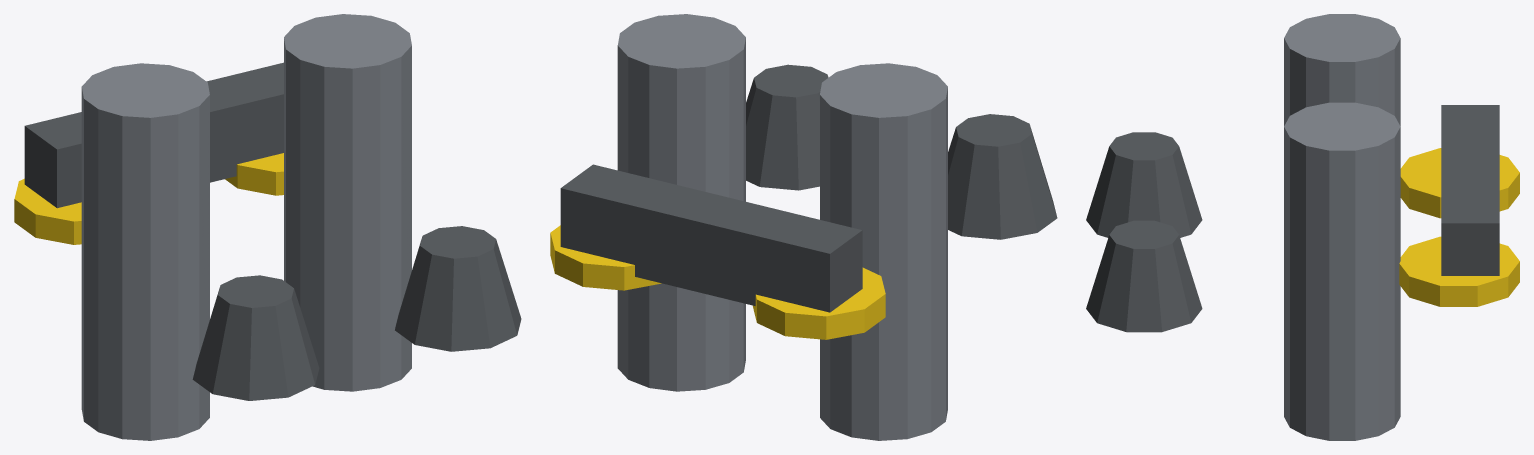
The model's file is backpack-jumpjets.glb.
3 renders of one model, left to right at view 1: azimuth 30°, elevation 25°; view 2: azimuth 150°, elevation 25°; view 3: azimuth 270°, elevation 25°, orthographic. The views are drawn at different scales.
Parts seen in each view (by area): view 1: pod_-1, pod_1, nozzle_1, nozzle_-1, crossbar, ring_-1, ring_1; view 2: pod_-1, pod_1, crossbar, nozzle_-1, nozzle_1, ring_-1, ring_1; view 3: pod_1, pod_-1, crossbar, nozzle_1, nozzle_-1, ring_1, ring_-1.
Part boxes in pixels (bbox=[...]): pod_-1: bbox=[81, 63, 209, 440]; pod_1: bbox=[284, 14, 411, 391]; nozzle_1: bbox=[395, 226, 521, 351]; nozzle_-1: bbox=[192, 275, 319, 400]; crossbar: bbox=[24, 62, 283, 208]; ring_-1: bbox=[14, 178, 81, 244]; ring_1: bbox=[225, 153, 283, 195]; pod_-1: bbox=[820, 63, 947, 440]; pod_1: bbox=[617, 14, 745, 391]; crossbar: bbox=[560, 164, 862, 312]; nozzle_-1: bbox=[948, 114, 1057, 239]; nozzle_1: bbox=[746, 64, 828, 190]; ring_-1: bbox=[753, 267, 885, 339]; ring_1: bbox=[550, 225, 661, 290]; pod_1: bbox=[1284, 102, 1400, 440]; pod_-1: bbox=[1284, 14, 1400, 125]; crossbar: bbox=[1441, 105, 1499, 275]; nozzle_1: bbox=[1086, 220, 1202, 332]; nozzle_-1: bbox=[1086, 132, 1202, 237]; ring_1: bbox=[1399, 236, 1519, 306]; ring_-1: bbox=[1400, 148, 1519, 218].
Size of the model in its own units: 0.5597 by 0.55 by 0.745.
